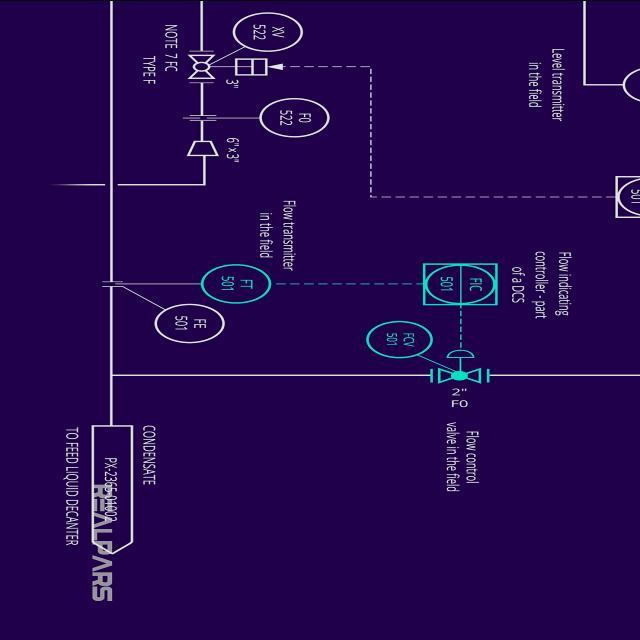Pneumatic-Diaphragm Globe Valve: (432, 338, 486, 386)
Rotary Piston-Pneumatic Gate Valve: (180, 49, 274, 82), (162, 102, 232, 130)
